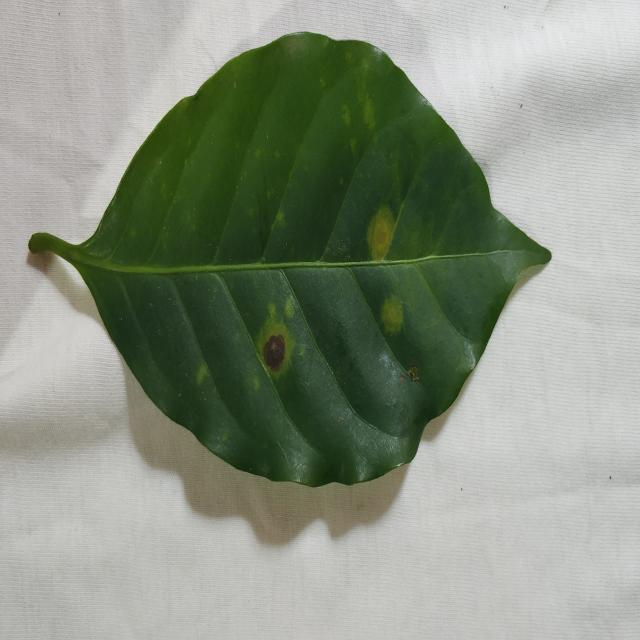Enfermedad-Roya: (26, 33, 552, 491)
